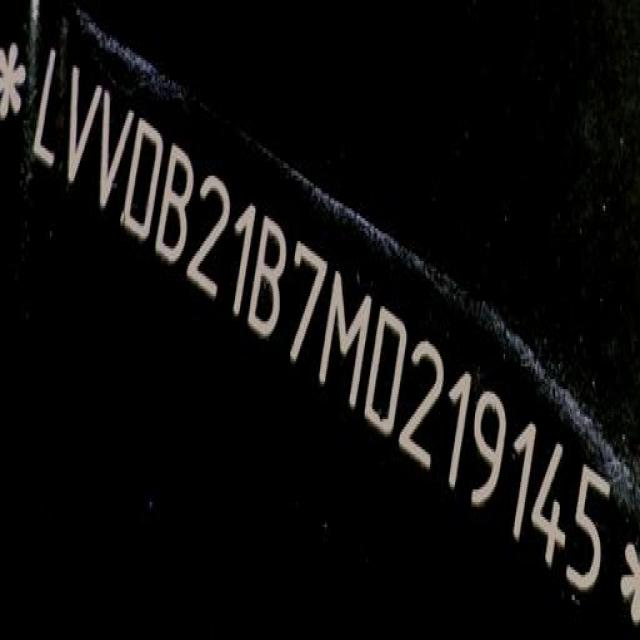1: (508, 420, 538, 542), (443, 369, 470, 491), (228, 200, 256, 314)
2: (397, 336, 446, 468), (185, 171, 231, 300)
4: (533, 443, 566, 571)
5: (564, 464, 610, 598)
7: (287, 245, 328, 364)
9: (469, 389, 507, 509)
B: (246, 216, 286, 339), (156, 142, 193, 268)
D: (364, 304, 407, 442), (120, 114, 162, 242)
L: (28, 41, 65, 186)
M: (320, 268, 372, 408)
V: (95, 88, 133, 214), (65, 61, 102, 189)
